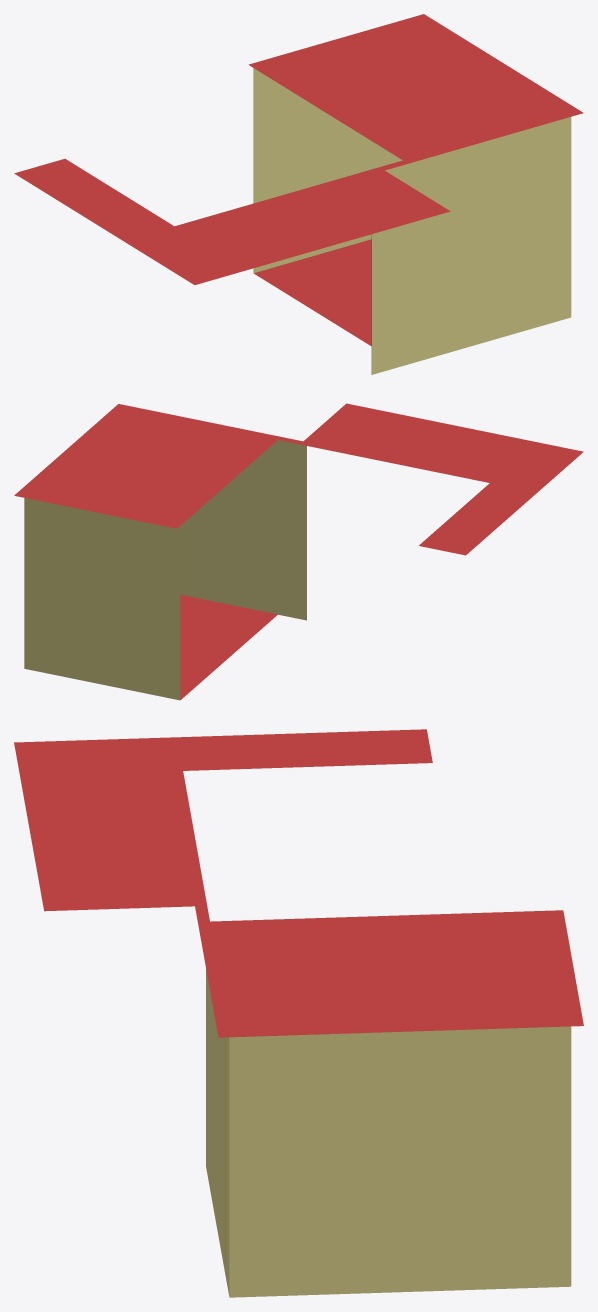
3 renders of one model, top to bottom at view 1: azimuth 30°, elevation 25°; view 2: azimuth 150°, elevation 25°; view 3: azimuth 270°, elevation 25°, orthographic. The views are drawn at different scales.
Size of the model in its own units: 15.34 by 11.98 by 6.16.
